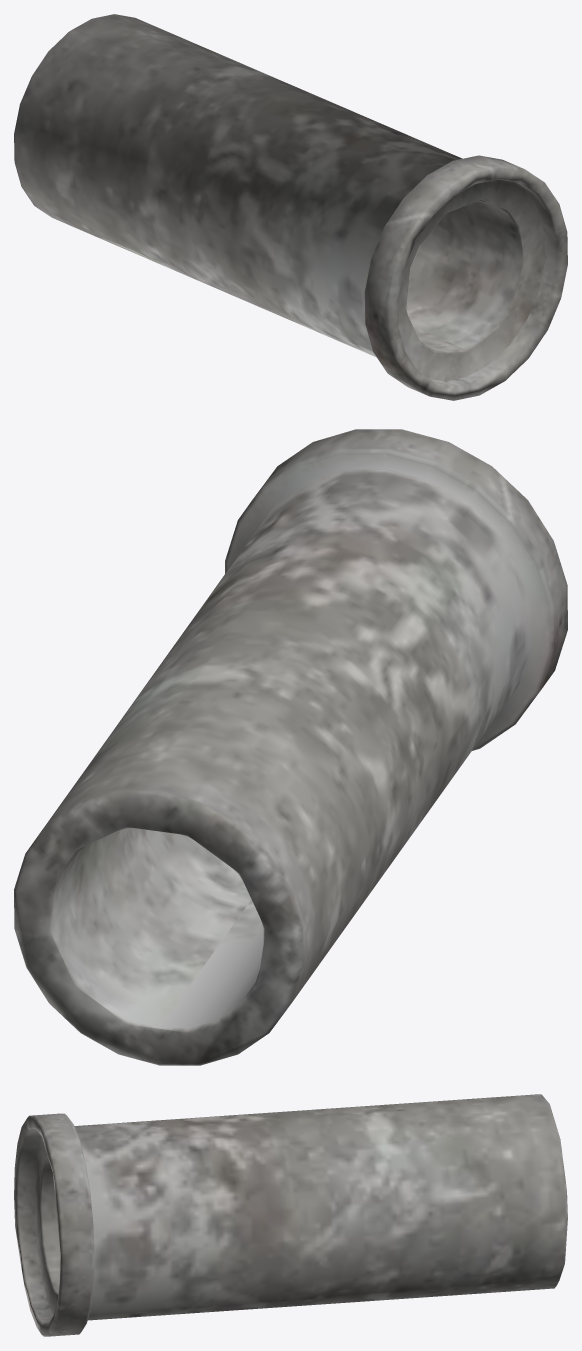
The model's file is con-pipe-long.lod1.glb.
3 renders of one model, top to bottom at view 1: azimuth 30°, elevation 25°; view 2: azimuth 150°, elevation 25°; view 3: azimuth 270°, elevation 25°, orthographic. The views are drawn at different scales.
Parts seen in each view (by area): view 1: Concrete_Pipe2_Concrete_Pipe2_0; view 2: Concrete_Pipe2_Concrete_Pipe2_0; view 3: Concrete_Pipe2_Concrete_Pipe2_0.
Part boxes in pixels (left/top/right/bottom): Concrete_Pipe2_Concrete_Pipe2_0: left=14, top=14, right=567, bottom=400; Concrete_Pipe2_Concrete_Pipe2_0: left=14, top=429, right=567, bottom=1065; Concrete_Pipe2_Concrete_Pipe2_0: left=14, top=1094, right=567, bottom=1336.
Bounding box in the file's own units: 2.24 × 1.6 × 3.95.
Materials: 1 (1 with a texture image).
